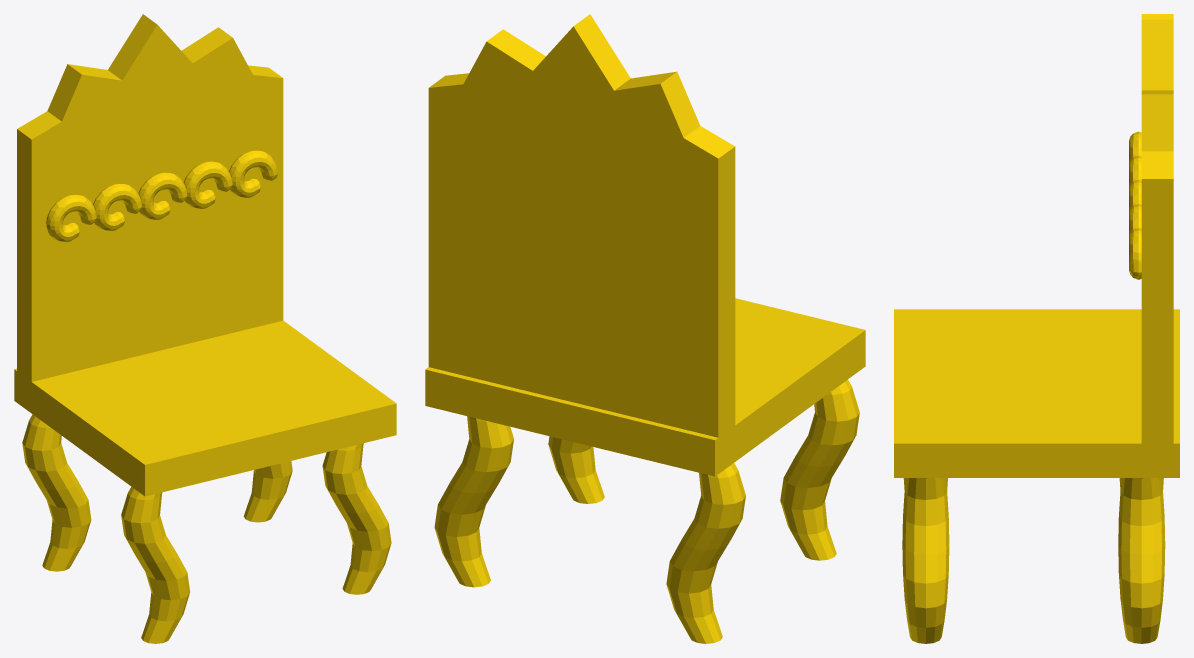
File: ornate-chair.glb
The picture shows the model from 3 angles, left to right: view 1: azimuth 30°, elevation 25°; view 2: azimuth 150°, elevation 25°; view 3: azimuth 270°, elevation 25°; orthographic projection. The views are drawn at different scales.
Parts seen in each view (by area): view 1: 唐草装飾付きミニチュア椅子; view 2: 唐草装飾付きミニチュア椅子; view 3: 唐草装飾付きミニチュア椅子.
Part boxes in pixels (bbox=[...]): 唐草装飾付きミニチュア椅子: bbox=[14, 14, 396, 643]; 唐草装飾付きミニチュア椅子: bbox=[425, 14, 865, 643]; 唐草装飾付きミニチュア椅子: bbox=[894, 14, 1179, 643].
Size of the model in its own units: 0.0527 by 0.098 by 0.045.
